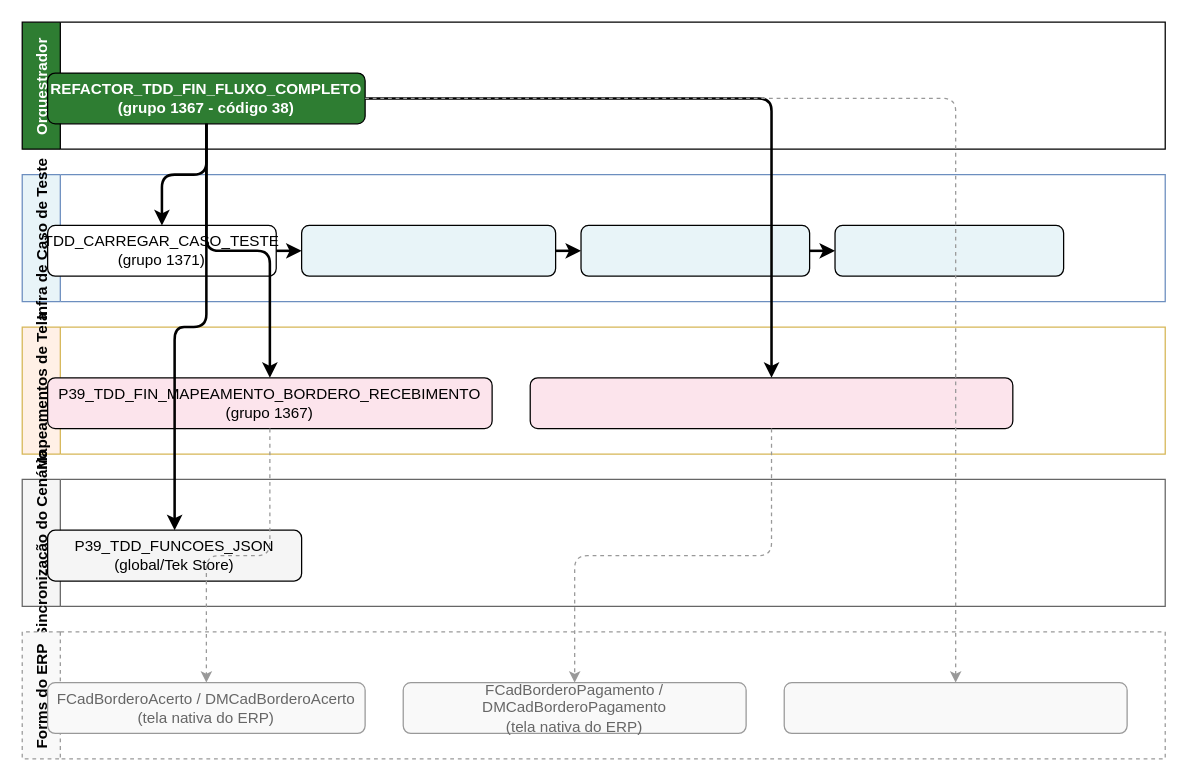
Some shapes in this 1187 by 781 pixel diagram are drawn without their labels. Here are the shapes that lost their labels. From the top down, the centre of each, then its label:
At (428,250): "P39_TDD_REGISTRAR_CASO_TESTE (global/Tek Store)".
At (695,250): "P39_TDD_ODBC P39_TDD_ODBC (grupo 1371)".
At (949,250): "cConexaoODBCPadrao (P39_TDD_CONSTANTES)".
At (771,403): "P39_TDD_FIN_MAPEAMENTO_BORDERO_PAGAMENTO (global/Tek Store)".
At (955,707): "FCadReceber / FCadPagar + DMCadDuplicata (tela nativa do ERP)".
